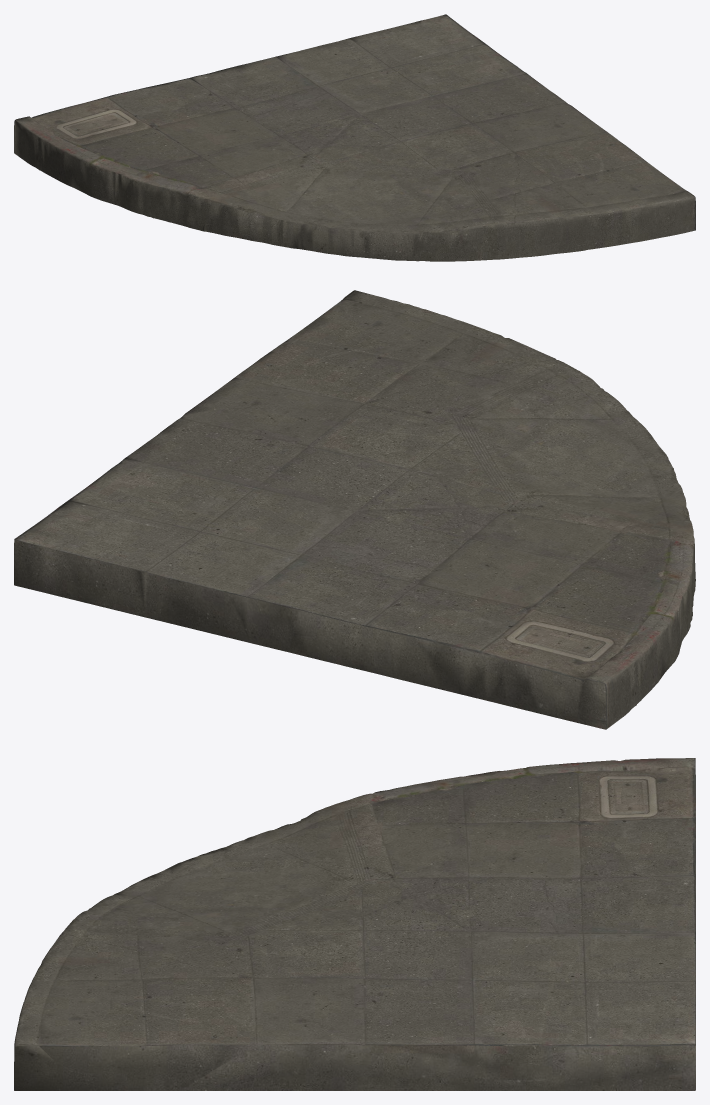
The model's file is highway-barrier-corner.glb.
3 views of the same model, one above another, from view 1: azimuth 30°, elevation 25°; view 2: azimuth 150°, elevation 25°; view 3: azimuth 270°, elevation 25° (orthographic). The views are drawn at different scales.
Size of the model in its own units: 4 by 0.332 by 4.
1 material, 1 textured.
